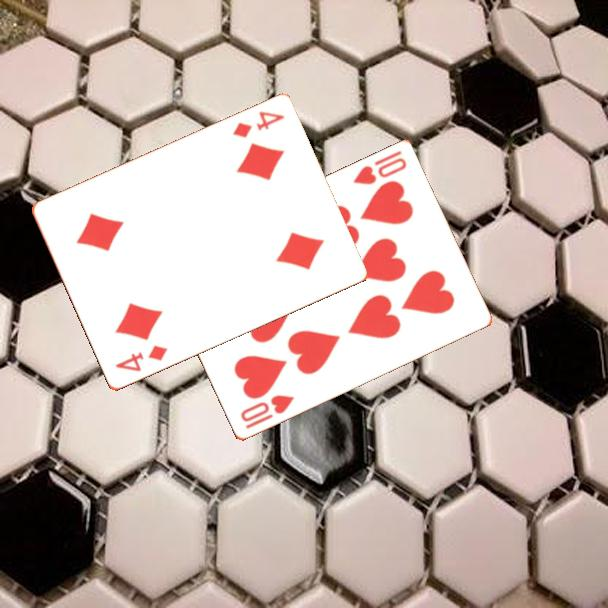d04: (111, 342, 170, 375), (229, 108, 287, 141)
h10: (350, 147, 409, 188), (237, 392, 297, 432)
